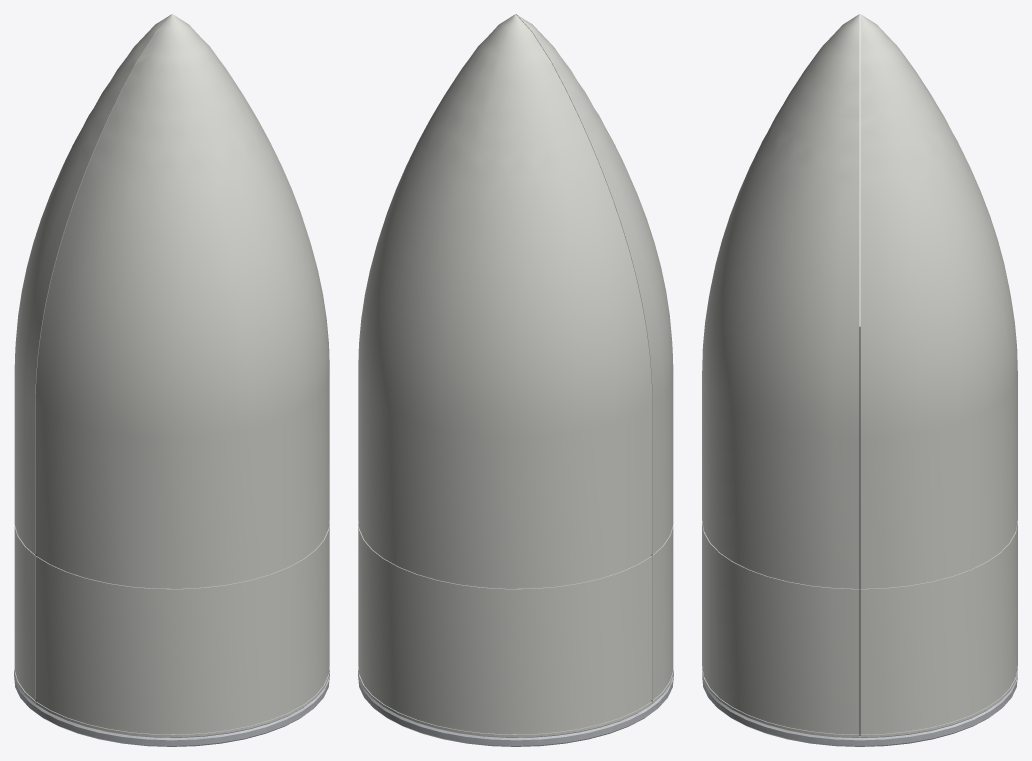
Rendered from ax_struct_09_payload_fairing_xl.glb.
3 views of the same model, side by side, from view 1: azimuth 30°, elevation 25°; view 2: azimuth 150°, elevation 25°; view 3: azimuth 270°, elevation 25° (orthographic).
Visible parts, largest first — view 1: half_b, half_a, base_ring; view 2: half_a, half_b, base_ring; view 3: half_a, half_b, base_ring, separation_rails.
Part boxes in pixels (left/top/right/bottom): half_b: left=35, top=14, right=329, bottom=737; half_a: left=14, top=14, right=171, bottom=703; base_ring: left=14, top=670, right=329, bottom=746; half_a: left=358, top=14, right=652, bottom=737; half_b: left=516, top=14, right=673, bottom=703; base_ring: left=358, top=670, right=673, bottom=746; half_a: left=860, top=14, right=1017, bottom=737; half_b: left=702, top=14, right=859, bottom=737; base_ring: left=702, top=673, right=1017, bottom=746; separation_rails: left=859, top=327, right=860, bottom=735.
Bounding box in the file's own units: 5 × 11.66 × 5.
3 materials, 1 textured.
